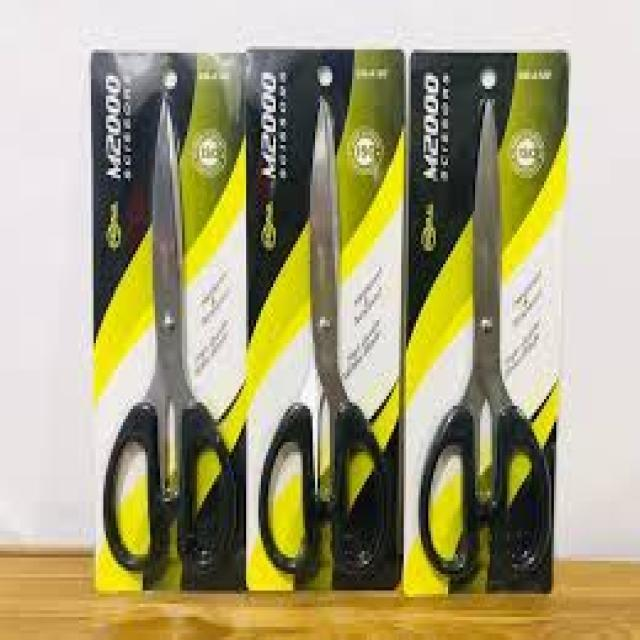Scissors: (396, 59, 576, 609), (238, 59, 408, 598), (88, 63, 250, 601)
